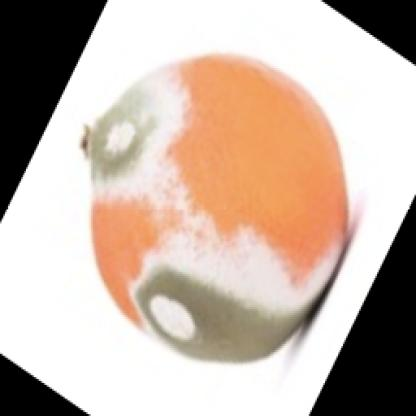rotten: (90, 56, 349, 363)
